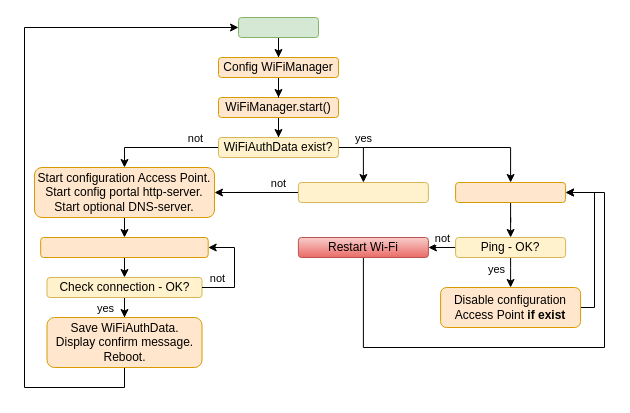
The diagram is 630 pixels wide and 413 high, and some of its shapes have lost their labels. The centre of each missing label's shape, as x and y in pixels:
"Board start" belongs at point 278,27.
"First connection - OK?" belongs at point 362,192.
"Ping gateway" belongs at point 510,192.
"Setup connection web-page" belongs at point 124,247.
